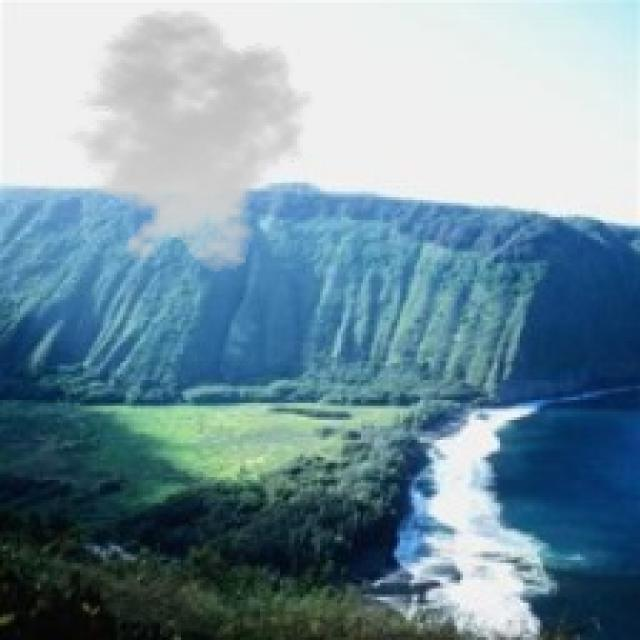smoke: (54, 9, 320, 274)
